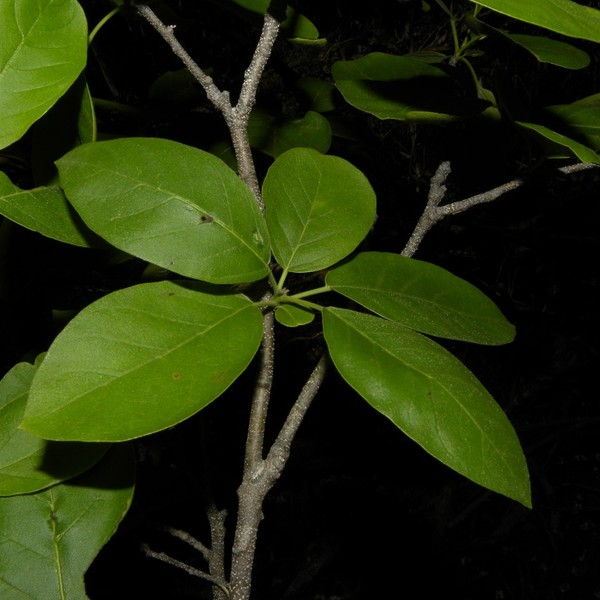obstacle: (42, 109, 521, 534)
